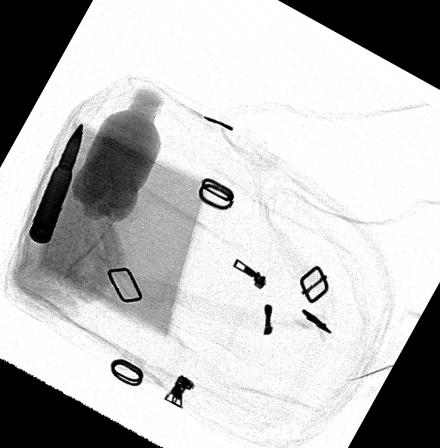Bullet: (27, 120, 83, 244)
